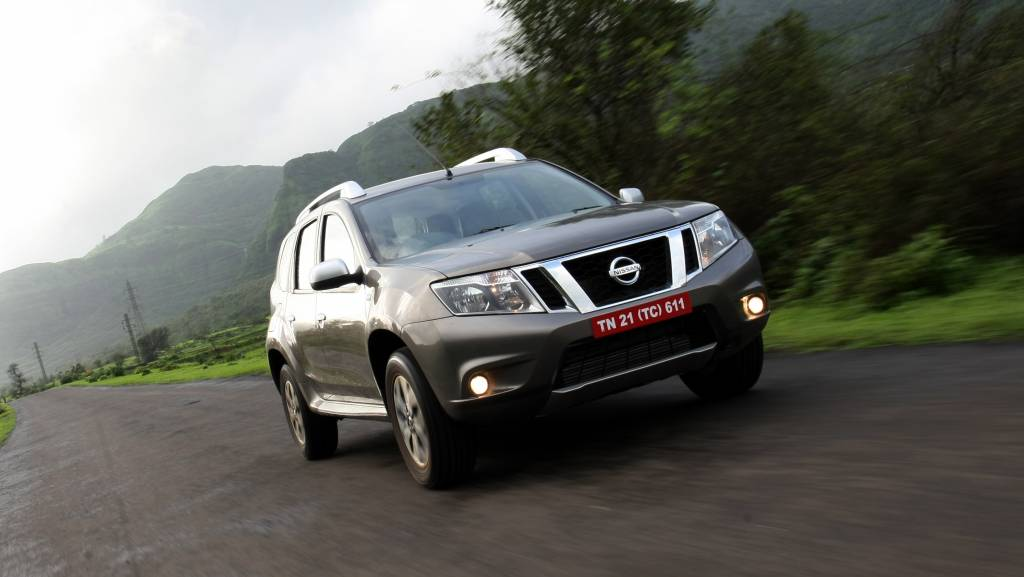number_plate: (581, 286, 702, 346)
